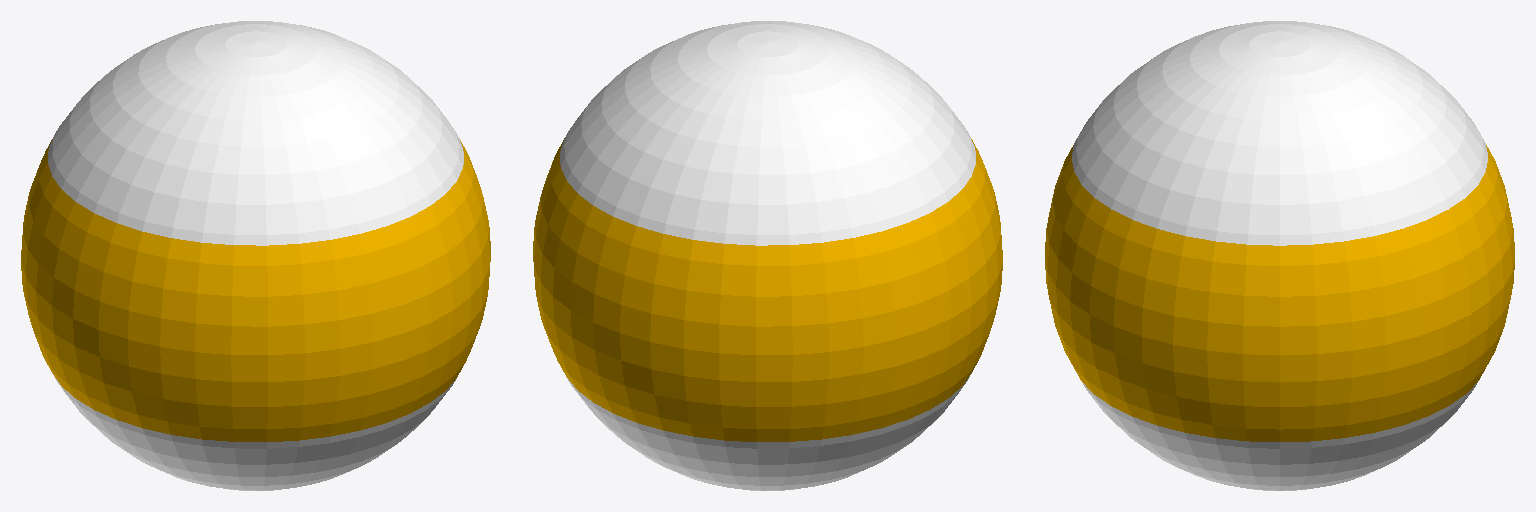
3 views of the same model, side by side, from view 1: azimuth 30°, elevation 25°; view 2: azimuth 150°, elevation 25°; view 3: azimuth 270°, elevation 25° (orthographic).
Visible parts, largest first — view 1: 球_球.001; view 2: 球_球.001; view 3: 球_球.001.
Boxes of the visible parts, <box> form: 球_球.001: <box>21,21,490,490</box>; 球_球.001: <box>533,21,1002,490</box>; 球_球.001: <box>1045,21,1514,490</box>.
Size of the model in its own units: 2 by 2 by 2.
Materials: 1 (1 with a texture image).